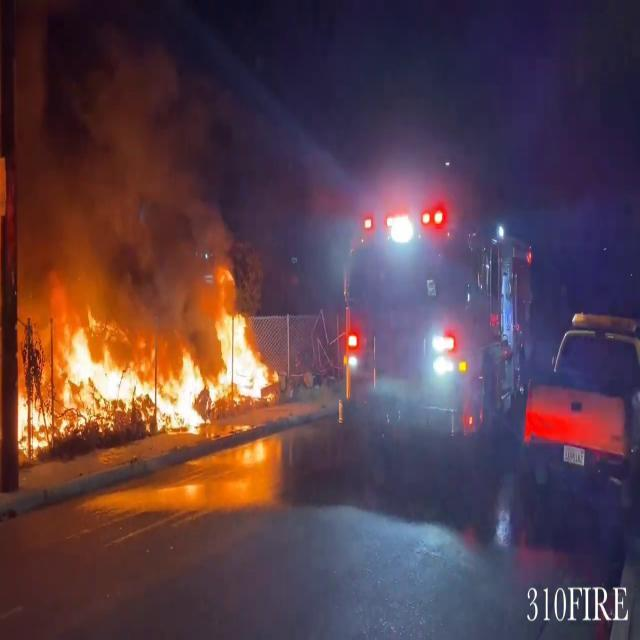Fire: (13, 276, 278, 440)
Smoke: (10, 26, 252, 304)
